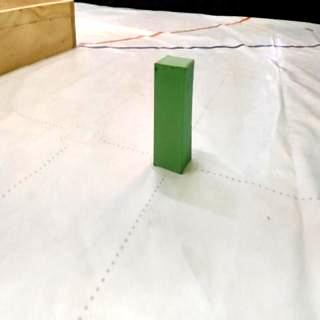greenbox: (153, 55, 196, 175)
